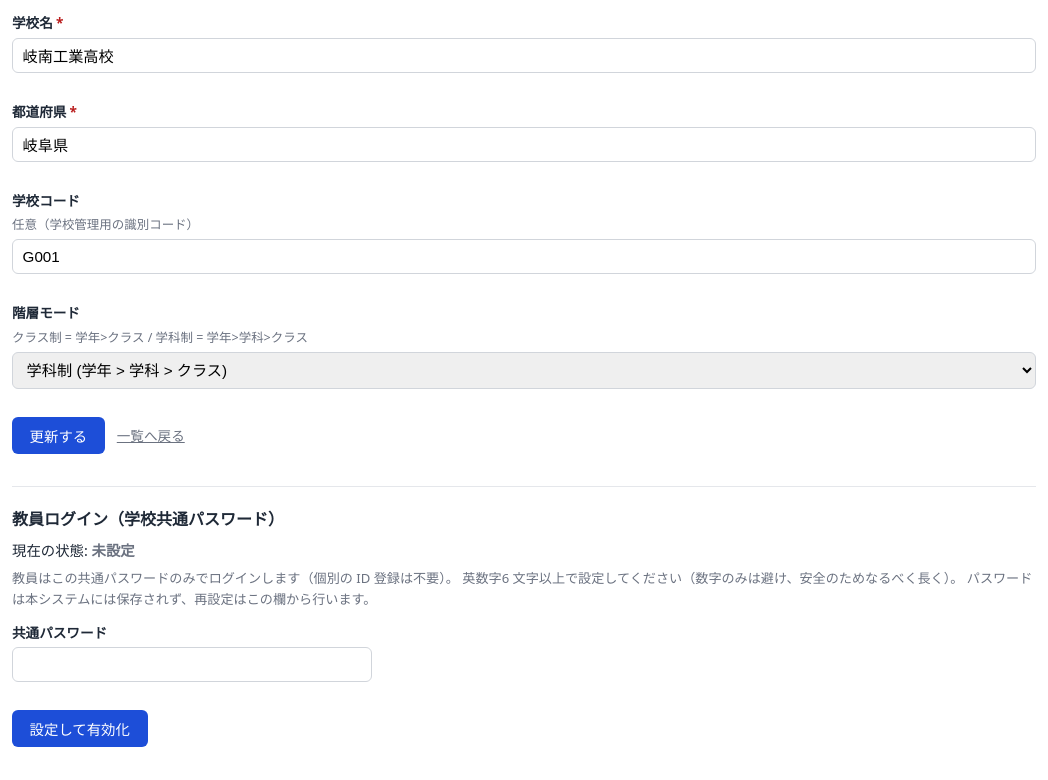
Test: SchoolEditForm 項目別検証 + 更新 › 既定値を埋め、必須を空にして送信すると項目エラーで送信を止める
Clear the field labelled "学校名": (524, 55) x1=12 y1=38 x2=1036 y2=73
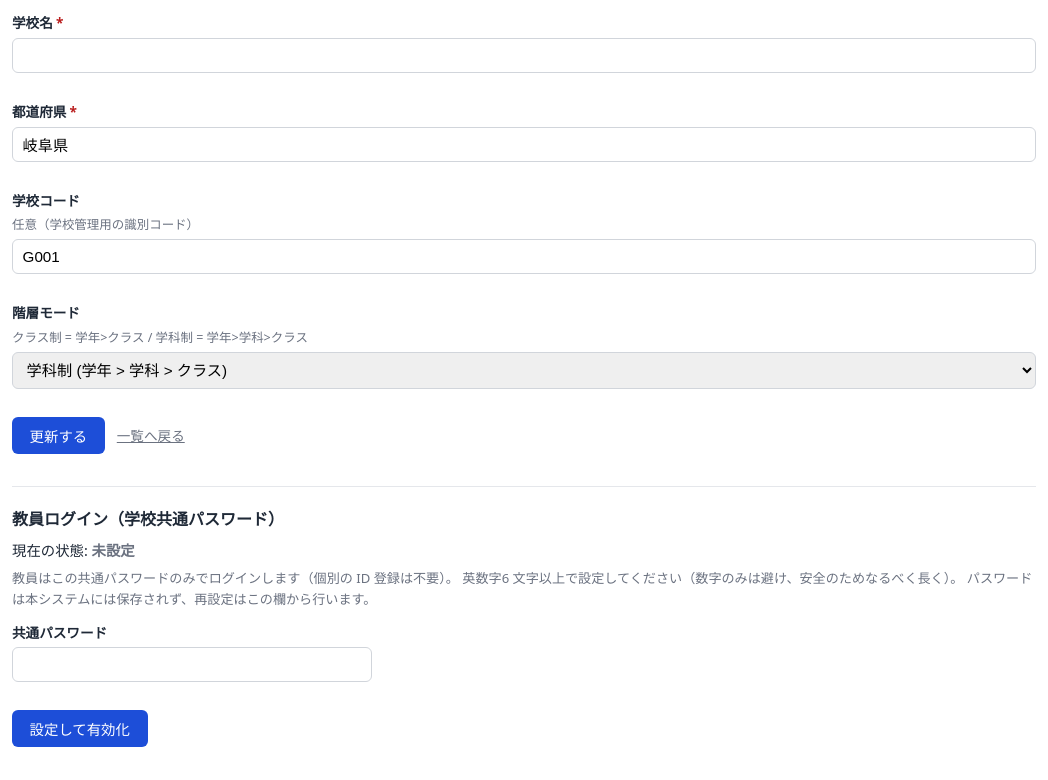
Click the button "更新する": (58, 435) x1=12 y1=417 x2=105 y2=454
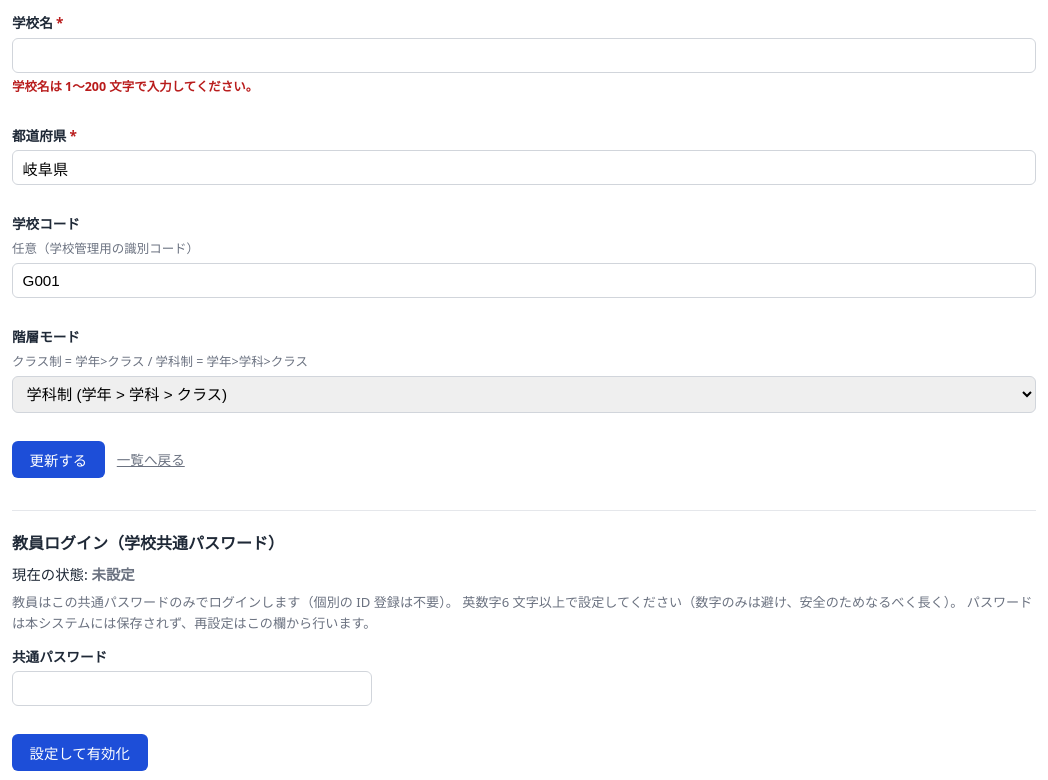
Check: the text "学校名は 1〜200 文字で入力してください。" is shown, box x1=12 y1=78 x2=258 y2=95
